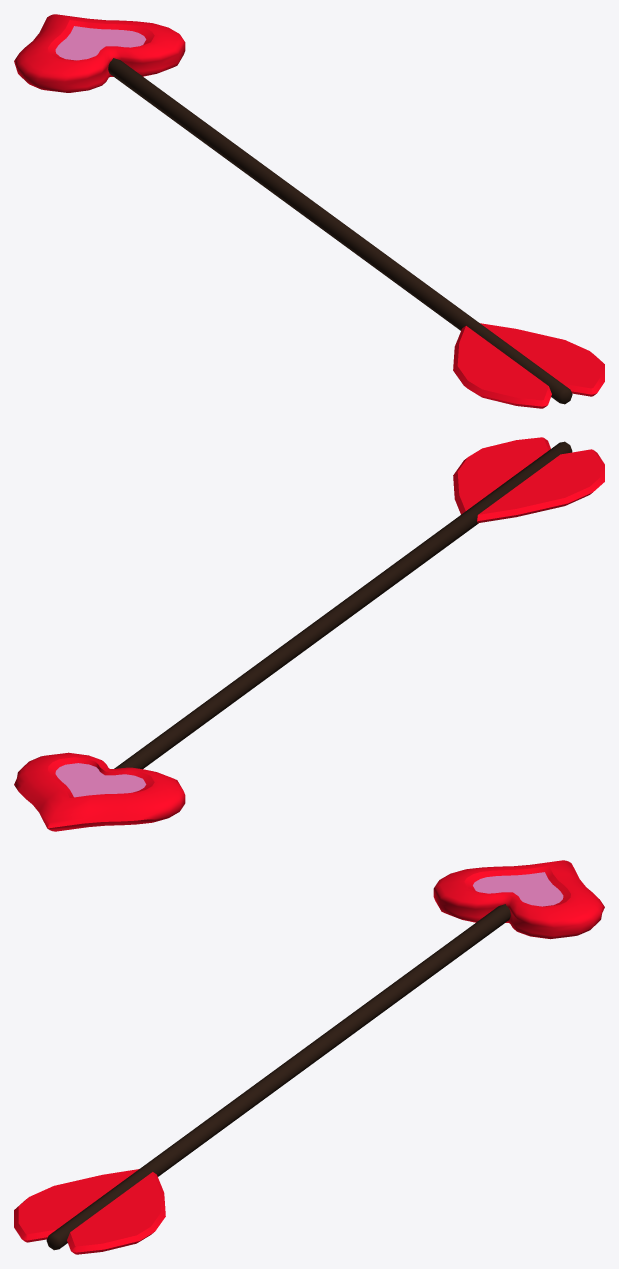
The model's file is arrow_heart.glb.
3 views of the same model, one above another, from view 1: azimuth 30°, elevation 25°; view 2: azimuth 150°, elevation 25°; view 3: azimuth 330°, elevation 25° (orthographic).
Parts seen in each view (by area): view 1: 0.027, 1.023, 2.014; view 2: 0.027, 1.023, 2.014; view 3: 0.027, 1.023, 2.014.
Part boxes in pixels (box(x1,y1,x2,y2)): 0.027: box(14, 14, 604, 408); 1.023: box(108, 58, 572, 404); 2.014: box(55, 26, 146, 60); 0.027: box(14, 437, 604, 831); 1.023: box(114, 441, 572, 769); 2.014: box(55, 763, 146, 797); 0.027: box(14, 860, 604, 1254); 1.023: box(46, 904, 510, 1250); 2.014: box(473, 872, 563, 906).
Size of the model in its own units: 0.1005 by 0.0172 by 0.5863.
